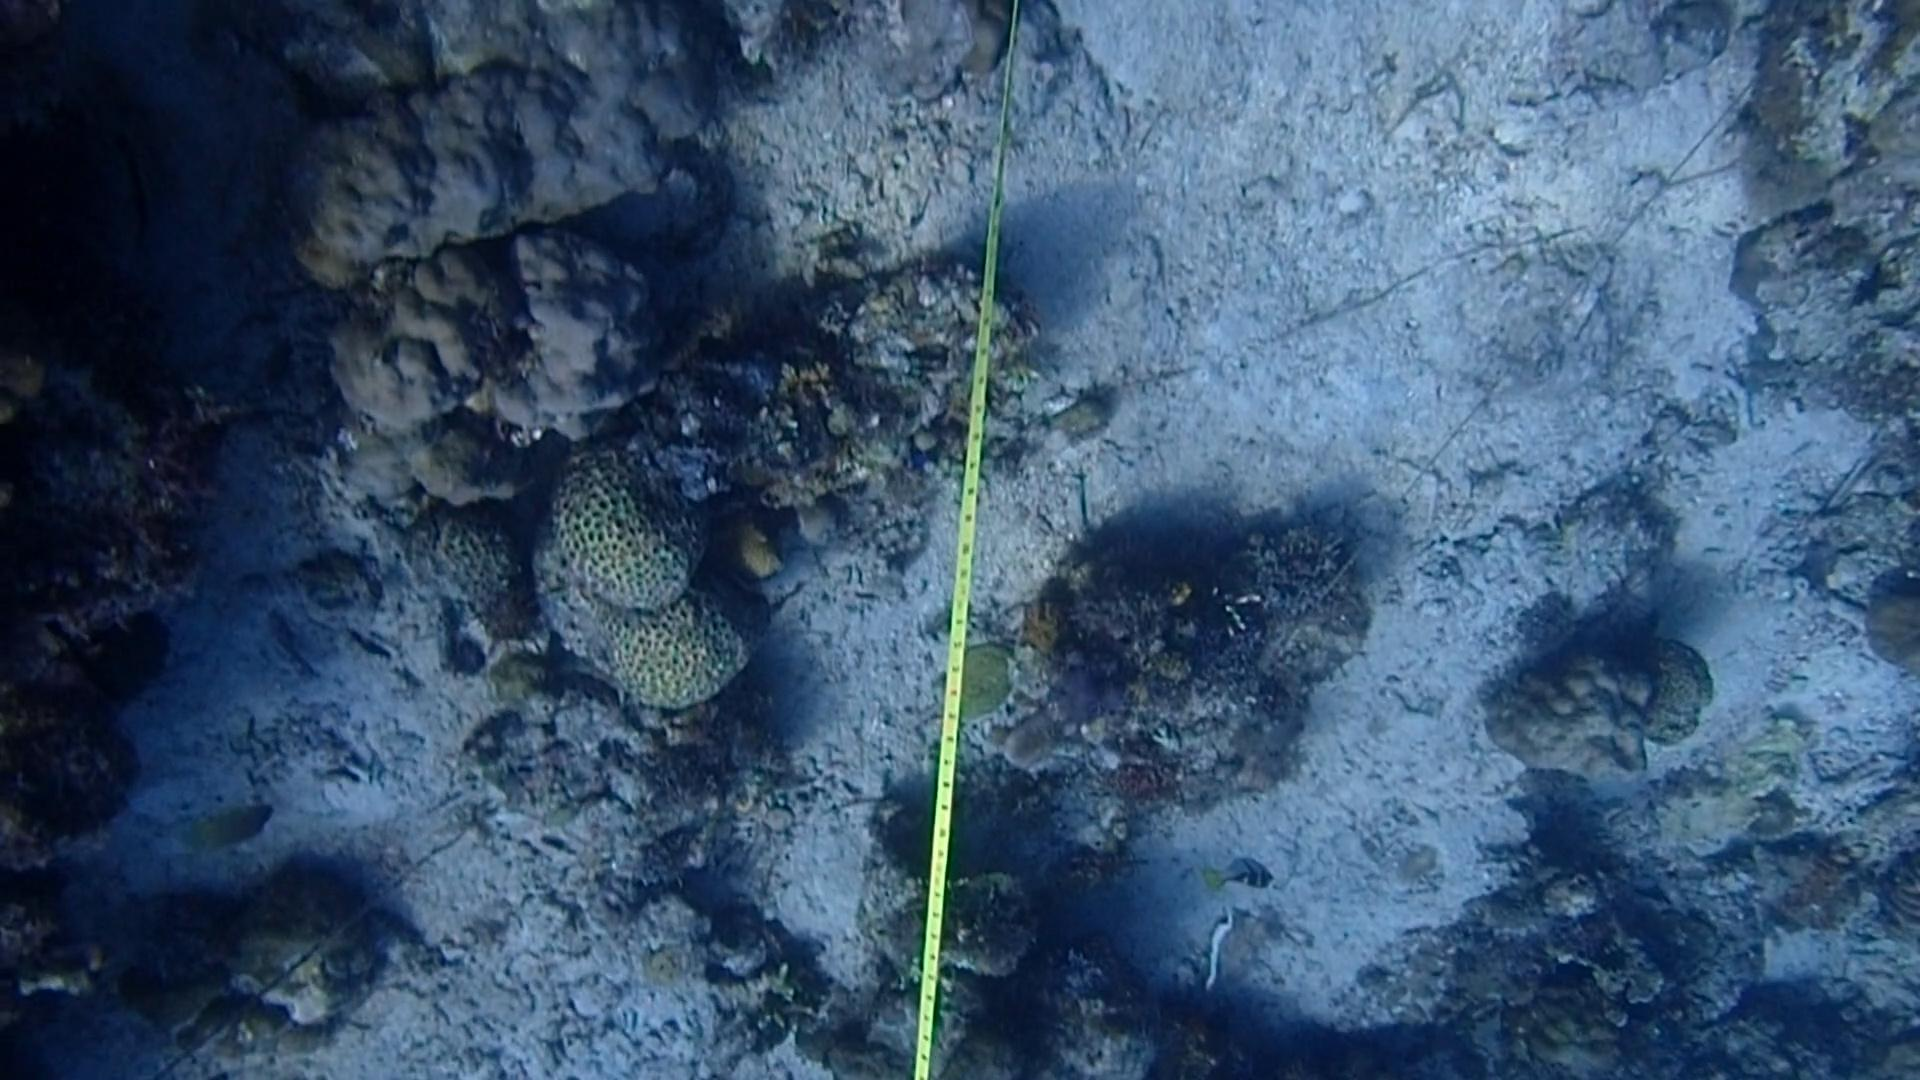Striped Fish: (1197, 856, 1273, 899)
